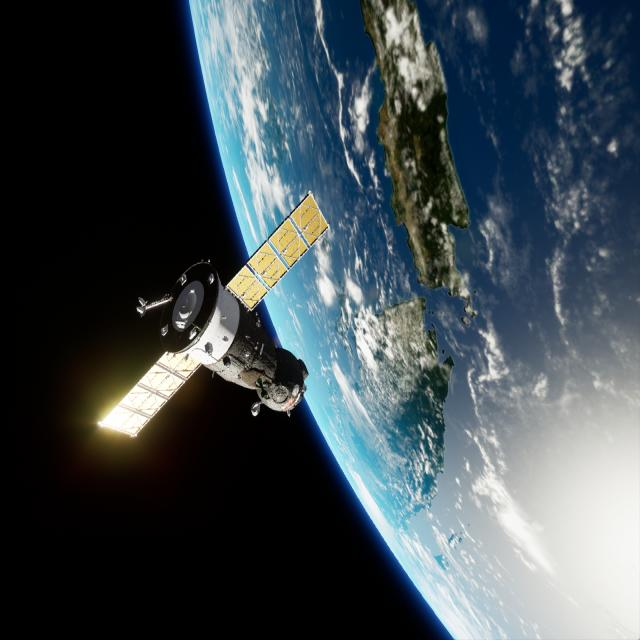Satellites revolving around earth: (95, 188, 332, 442)
